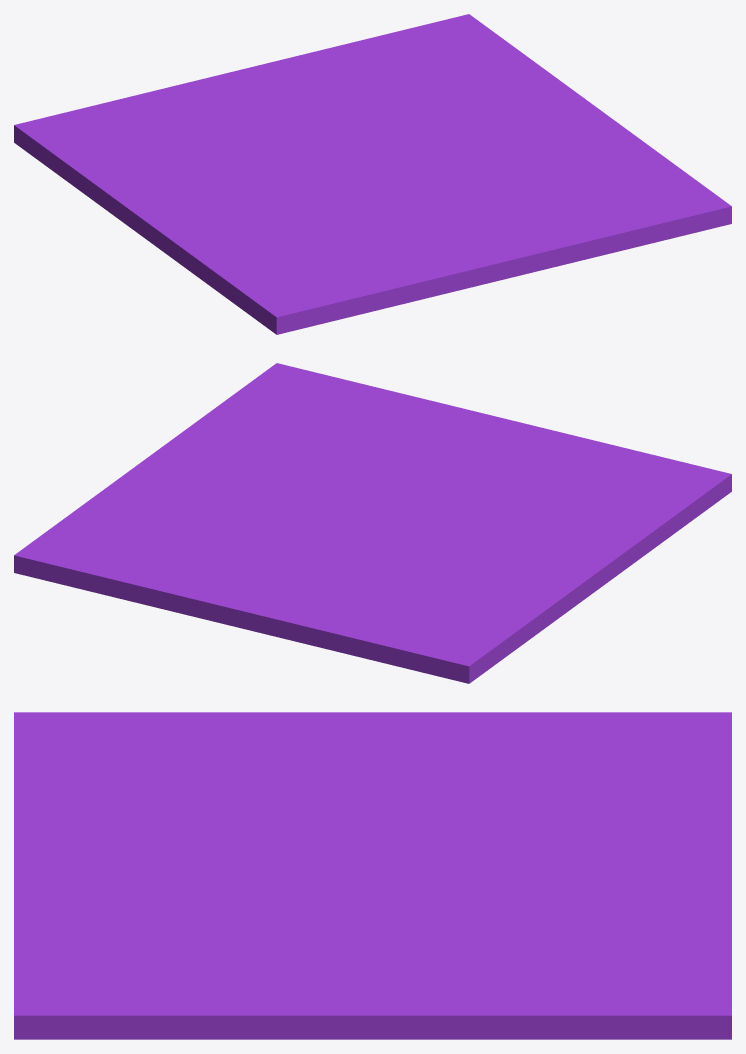
The model's file is Platform_29_chunks.fbx.
The picture shows the model from 3 angles, top to bottom: view 1: azimuth 30°, elevation 25°; view 2: azimuth 150°, elevation 25°; view 3: azimuth 270°, elevation 25°; orthographic projection. The views are drawn at different scales.
Visible parts, largest first — view 1: Platform_29_13, Platform_29_0, Platform_29_8, Platform_29_14, Platform_29_7, Platform_29_11, Platform_29_2, Platform_29_10, Platform_29_9, Platform_29_17, Platform_29_18, Platform_29_5 (+4 smaller); view 2: Platform_29_0, Platform_29_13, Platform_29_8, Platform_29_7, Platform_29_11, Platform_29_2, Platform_29_14, Platform_29_10, Platform_29_9, Platform_29_18, Platform_29_17, Platform_29_16 (+2 smaller); view 3: Platform_29_13, Platform_29_0, Platform_29_8, Platform_29_2, Platform_29_11, Platform_29_14, Platform_29_7, Platform_29_10, Platform_29_17, Platform_29_18, Platform_29_9, Platform_29_16 (+3 smaller).
Boxes of the visible parts, x1=… form: Platform_29_13: x1=222, y1=203, x2=472, y2=322; Platform_29_0: x1=258, y1=21, x2=467, y2=154; Platform_29_8: x1=130, y1=65, x2=361, y2=167; Platform_29_14: x1=460, y1=180, x2=731, y2=253; Platform_29_7: x1=14, y1=97, x2=240, y2=178; Platform_29_11: x1=319, y1=163, x2=616, y2=229; Platform_29_2: x1=361, y1=120, x2=703, y2=185; Platform_29_10: x1=194, y1=156, x2=369, y2=293; Platform_29_9: x1=50, y1=168, x2=222, y2=281; Platform_29_17: x1=516, y1=65, x2=665, y2=157; Platform_29_18: x1=437, y1=14, x2=538, y2=89; Platform_29_5: x1=245, y1=261, x2=549, y2=334; Platform_29_0: x1=45, y1=503, x2=356, y2=624; Platform_29_13: x1=461, y1=426, x2=731, y2=517; Platform_29_8: x1=225, y1=523, x2=443, y2=659; Platform_29_7: x1=353, y1=562, x2=531, y2=683; Platform_29_11: x1=280, y1=418, x2=476, y2=516; Platform_29_2: x1=210, y1=383, x2=368, y2=524; Platform_29_14: x1=249, y1=363, x2=481, y2=450; Platform_29_10: x1=359, y1=513, x2=679, y2=562; Platform_29_9: x1=476, y1=534, x2=659, y2=657; Platform_29_18: x1=14, y1=504, x2=173, y2=580; Platform_29_17: x1=84, y1=411, x2=220, y2=504; Platform_29_16: x1=176, y1=453, x2=231, y2=520; Platform_29_13: x1=14, y1=712, x2=305, y2=863; Platform_29_0: x1=410, y1=865, x2=731, y2=994; Platform_29_8: x1=407, y1=789, x2=731, y2=874; Platform_29_2: x1=78, y1=864, x2=435, y2=1039; Platform_29_11: x1=134, y1=811, x2=381, y2=975; Platform_29_14: x1=14, y1=859, x2=165, y2=1029; Platform_29_7: x1=438, y1=712, x2=731, y2=796; Platform_29_10: x1=163, y1=712, x2=456, y2=864; Platform_29_17: x1=183, y1=982, x2=541, y2=1039; Platform_29_18: x1=507, y1=958, x2=731, y2=1039; Platform_29_9: x1=241, y1=712, x2=558, y2=779; Platform_29_16: x1=305, y1=942, x2=523, y2=982.
Size of the model in its own units: 810 by 29.87 by 810.
